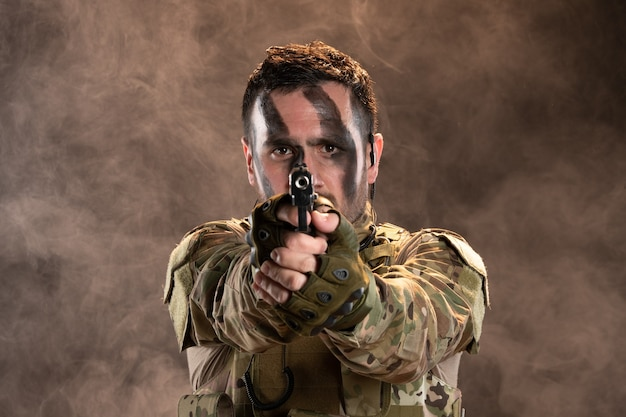gun: (287, 162, 315, 233)
